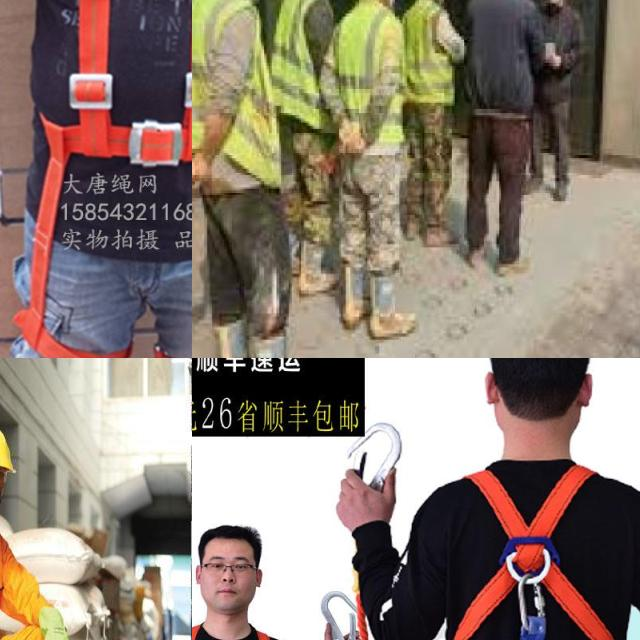Harness: (20, 0, 192, 358), (437, 459, 633, 640)
glasses: (0, 467, 8, 481)
hand_glove: (39, 607, 69, 640)
